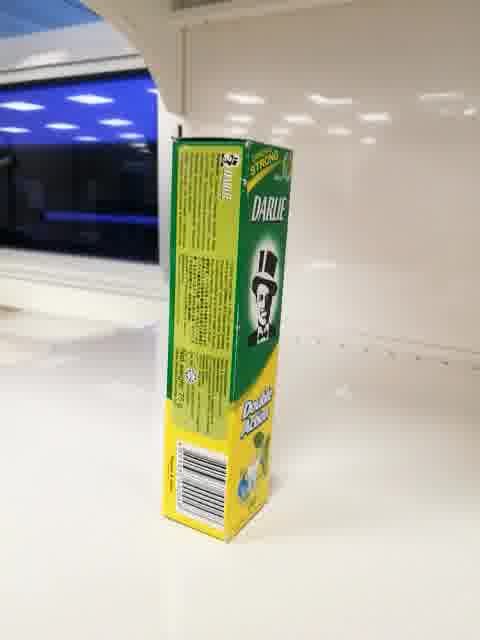toothpaste: (160, 137, 294, 544)
